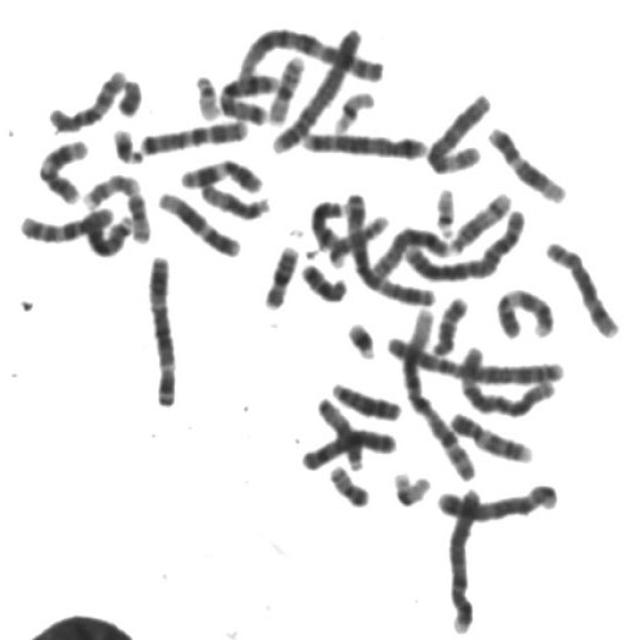A1: (394, 296, 482, 484), (233, 19, 389, 87)
A2: (381, 326, 569, 386), (400, 199, 531, 284)
A3: (340, 182, 440, 308), (142, 245, 184, 410)
B4: (266, 17, 368, 154), (441, 480, 490, 635)
B5: (431, 474, 564, 524), (297, 121, 431, 162)
C10: (42, 60, 132, 135), (14, 198, 119, 245)
C11: (33, 130, 93, 206), (174, 150, 267, 193)
C12: (482, 116, 572, 206), (152, 182, 245, 258)
C6: (454, 336, 562, 419), (422, 83, 496, 175)
C7: (134, 110, 252, 158), (212, 64, 286, 124)
C8: (540, 231, 624, 340), (366, 218, 454, 280)
C9: (444, 403, 536, 465), (491, 279, 559, 340)
D13: (326, 373, 406, 422), (82, 207, 137, 269)
D14: (445, 181, 516, 255), (306, 191, 350, 254)
D15: (313, 389, 368, 472), (194, 174, 274, 221)
E16: (264, 46, 308, 125), (258, 237, 304, 312)
E17: (324, 206, 393, 268), (78, 165, 144, 211)
E18: (426, 286, 473, 358), (297, 254, 352, 304)
F19: (328, 82, 379, 135), (388, 462, 435, 508)
F20: (323, 457, 374, 509), (122, 185, 154, 245)
G21: (341, 312, 381, 361), (107, 119, 148, 165)
G22: (189, 65, 225, 121), (430, 178, 460, 238)
X: (296, 420, 401, 472)
Y: (112, 70, 146, 117)
